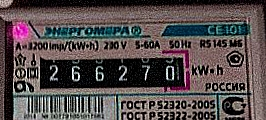0: (163, 62, 174, 82)
2: (46, 61, 60, 82), (116, 62, 128, 82)
6: (69, 63, 81, 83), (93, 62, 105, 82)
7: (139, 62, 151, 81)
screen: (26, 42, 199, 100)
